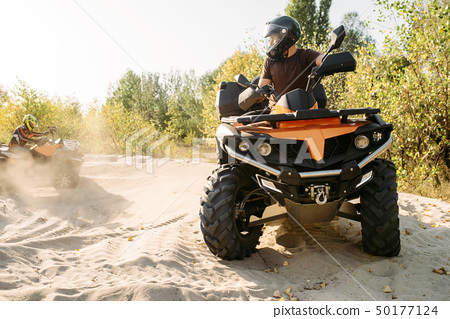helmet: (262, 10, 301, 58)
